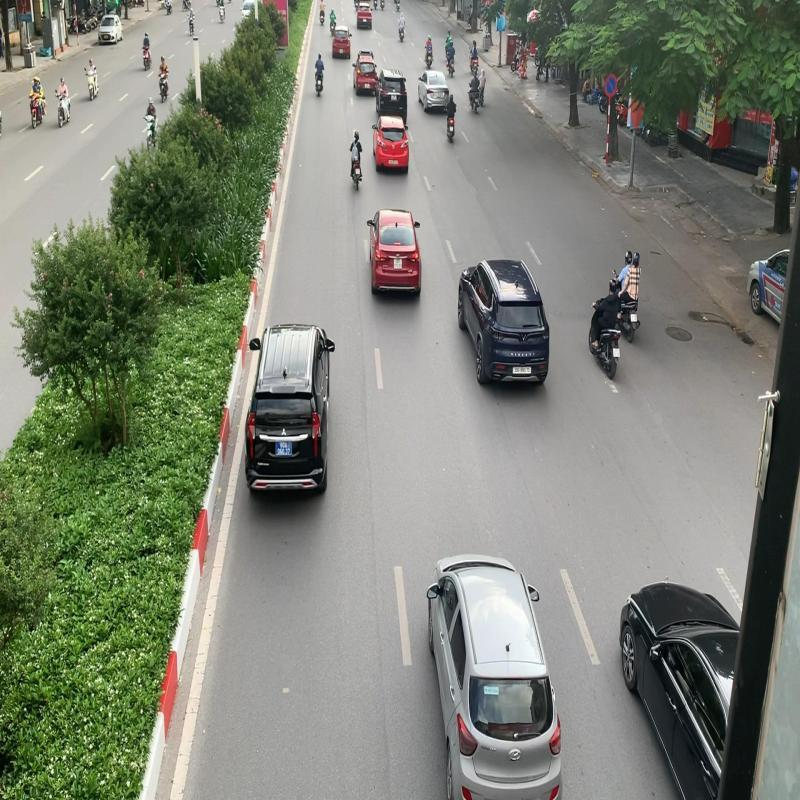helmet: (609, 279, 617, 295)
licenseplate: (613, 347, 621, 358)
motorcyclist: (588, 278, 622, 380)
